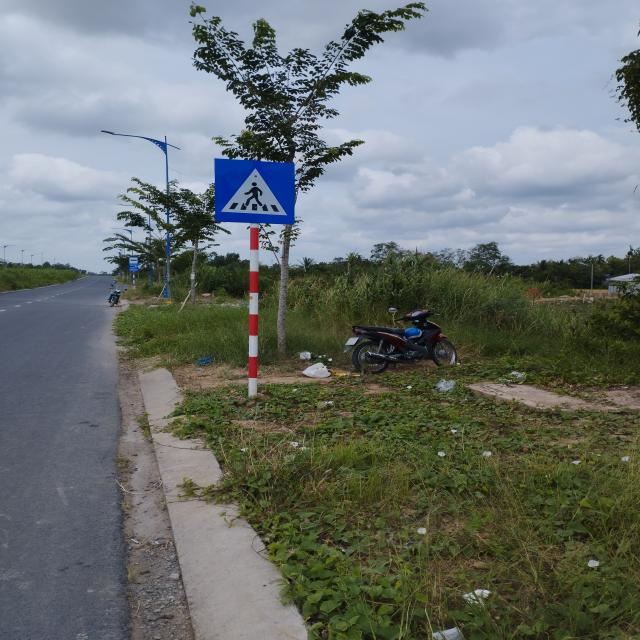Giao_Nhau_Duong_Uu_Tien: (214, 158, 296, 226)
